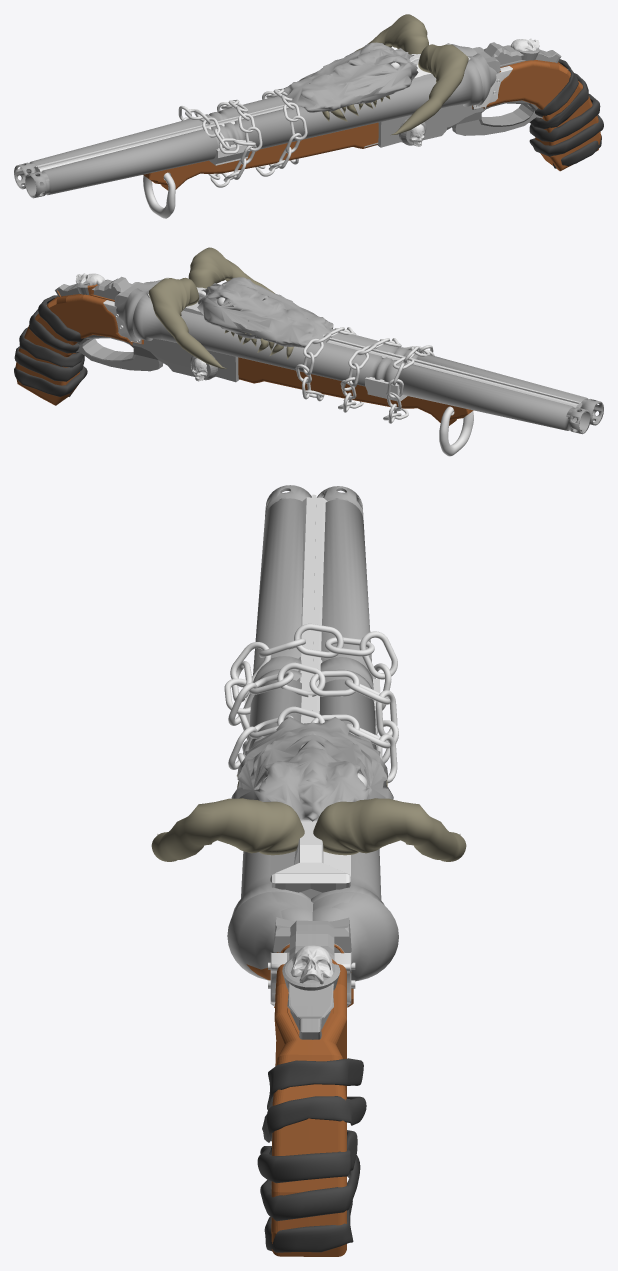
File: ShotGun_Test.fbx
3 renders of one model, top to bottom at view 1: azimuth 30°, elevation 25°; view 2: azimuth 150°, elevation 25°; view 3: azimuth 270°, elevation 25°, orthographic. The views are drawn at different scales.
Visible parts, largest first — view 1: Cylinder, Cylinder.005, BezierCurve, Torus, Cylinder.001, Skull; view 2: Cylinder, Cylinder.005, BezierCurve, Torus, Cylinder.001, Skull; view 3: Cylinder, Cylinder.005, BezierCurve, Skull.
Boxes of the visible parts, <box> form: Cylinder: <box>14,14,483,198</box>; Cylinder.005: <box>423,42,601,171</box>; BezierCurve: <box>529,59,603,168</box>; Torus: <box>143,172,175,218</box>; Cylinder.001: <box>474,66,512,109</box>; Skull: <box>510,38,539,51</box>; Cylinder: <box>132,247,603,434</box>; Cylinder.005: <box>15,276,215,405</box>; BezierCurve: <box>14,295,89,396</box>; Torus: <box>439,406,473,456</box>; Cylinder.001: <box>103,300,141,343</box>; Skull: <box>76,273,105,285</box>; Cylinder: <box>151,485,466,1007</box>; Cylinder.005: <box>227,891,398,1256</box>; BezierCurve: <box>257,1058,366,1252</box>; Skull: <box>290,945,333,985</box>.
Size of the model in its own units: 1407 by 384 by 336.
